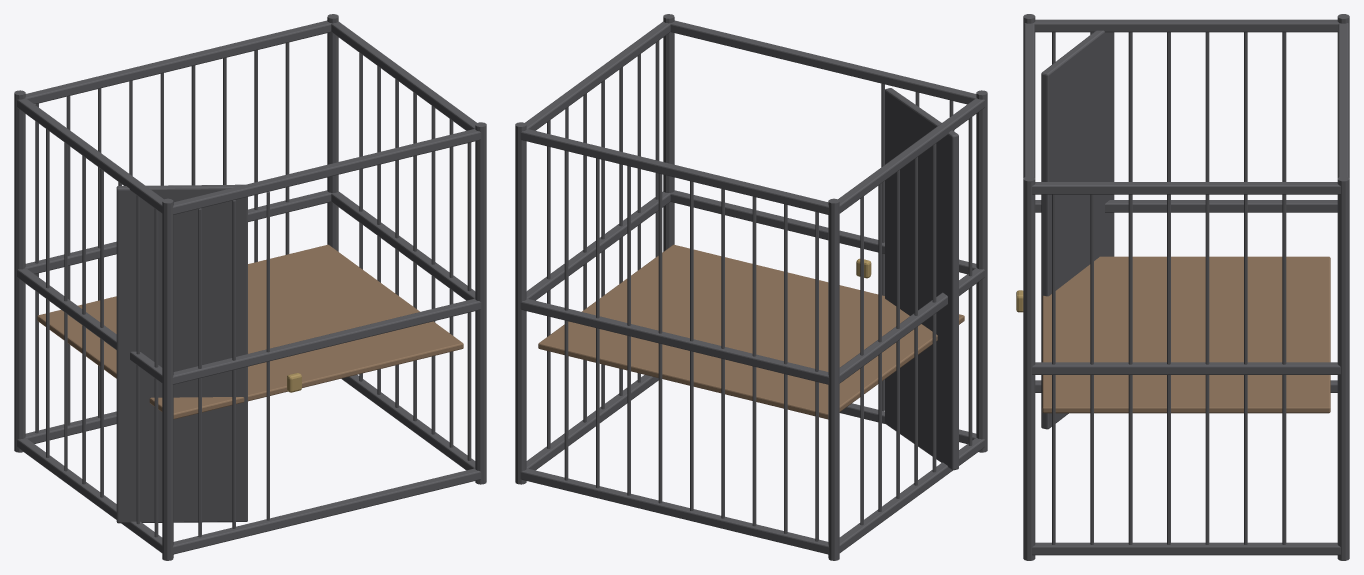
3 views of the same model, side by side, from view 1: azimuth 30°, elevation 25°; view 2: azimuth 150°, elevation 25°; view 3: azimuth 270°, elevation 25° (orthographic). The views are drawn at different scales.
Parts seen in each view (by area): view 1: recordsCage; view 2: recordsCage; view 3: recordsCage.
Part boxes in pixels (x1,y1,x2,y2): recordsCage: [14, 14, 486, 560]; recordsCage: [515, 14, 987, 560]; recordsCage: [1016, 14, 1349, 560].
Size of the model in its own units: 2.33 by 2.4 by 1.91.
